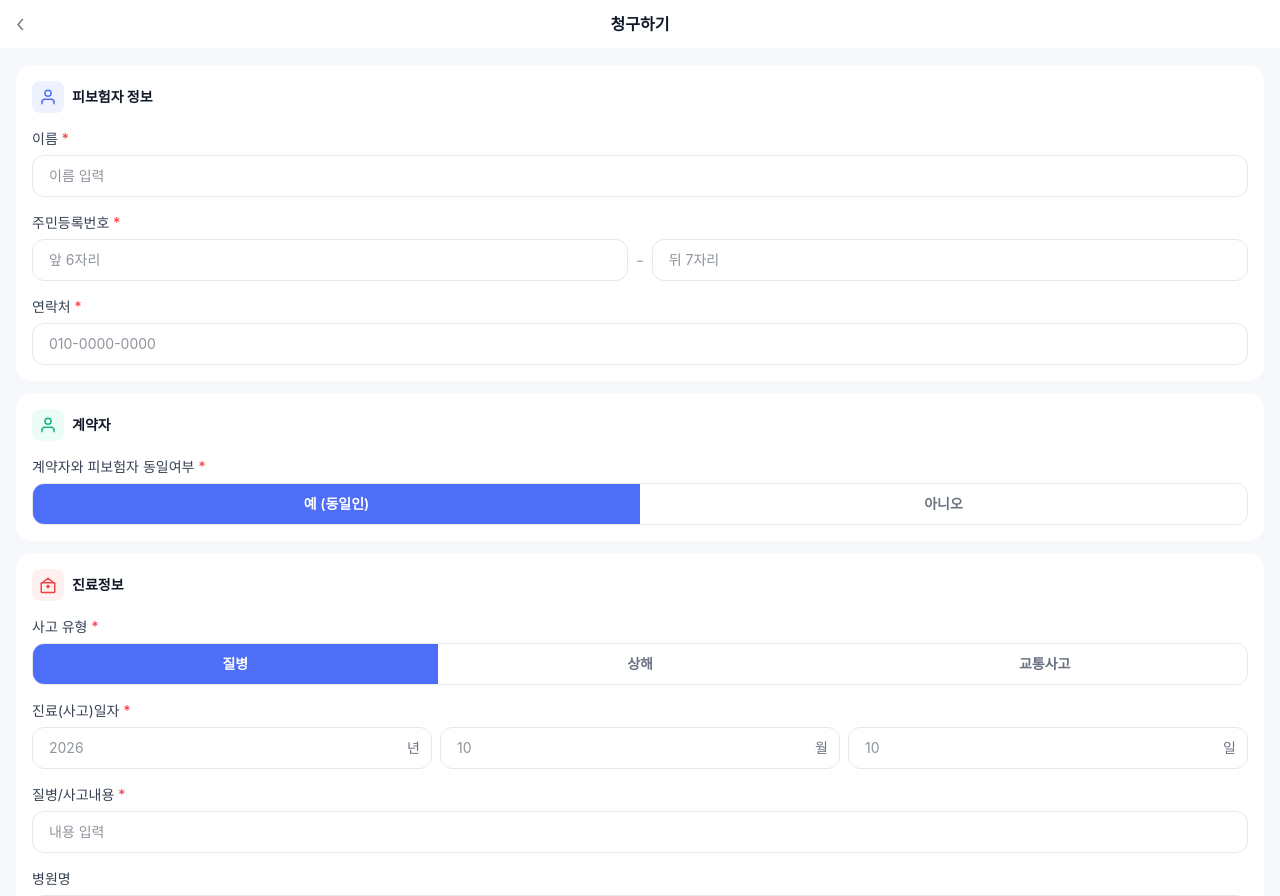
Test: ClaimNew (청구하기 폼) › 성공 케이스 › 사고 유형으로 "교통사고" 선택 시 자동차보험 처리여부 필드가 등장한다
Click the button "교통사고" at (1045, 664), box [842, 644, 1247, 684]
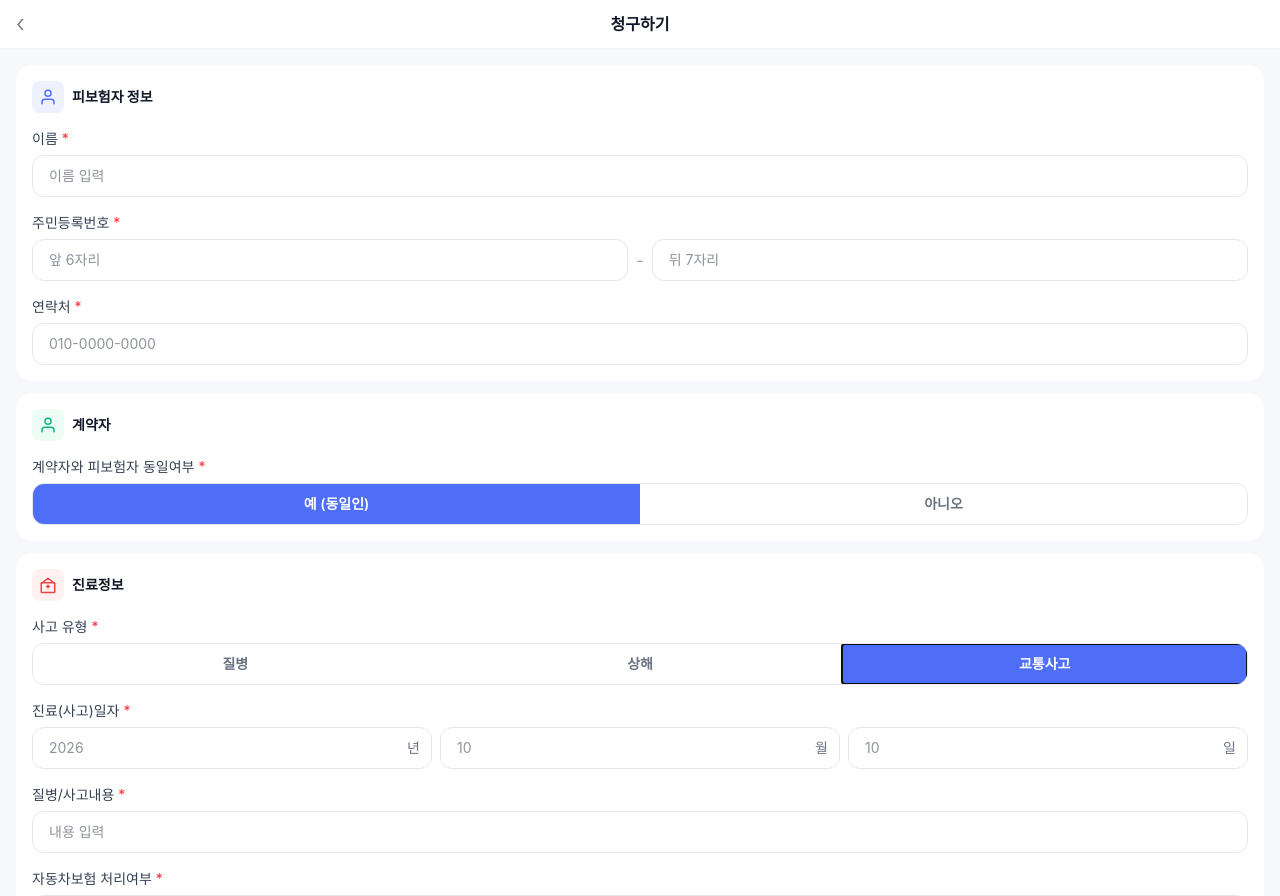
expect the text "자동차보험 처리여부" is shown: met, box [32, 870, 152, 887]
